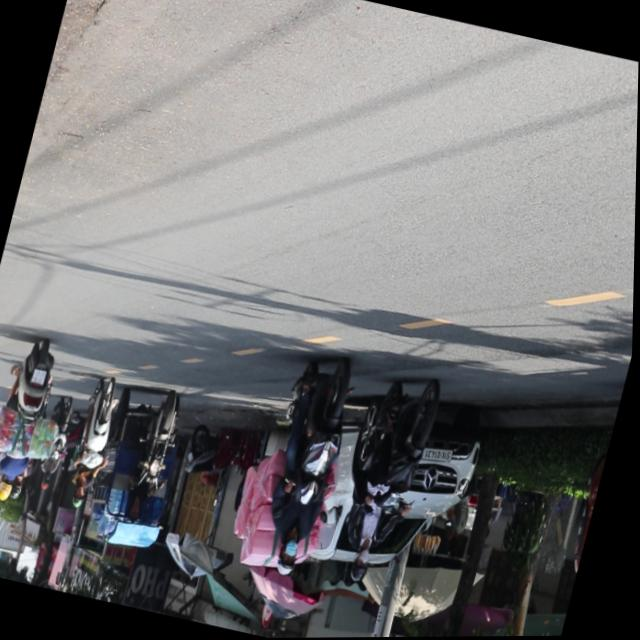helmet: (275, 531, 305, 578), (350, 544, 376, 584), (0, 475, 16, 503)
licenseplate: (243, 346, 368, 589), (337, 362, 451, 596), (0, 333, 66, 507)
nohelmet: (32, 367, 48, 385)
